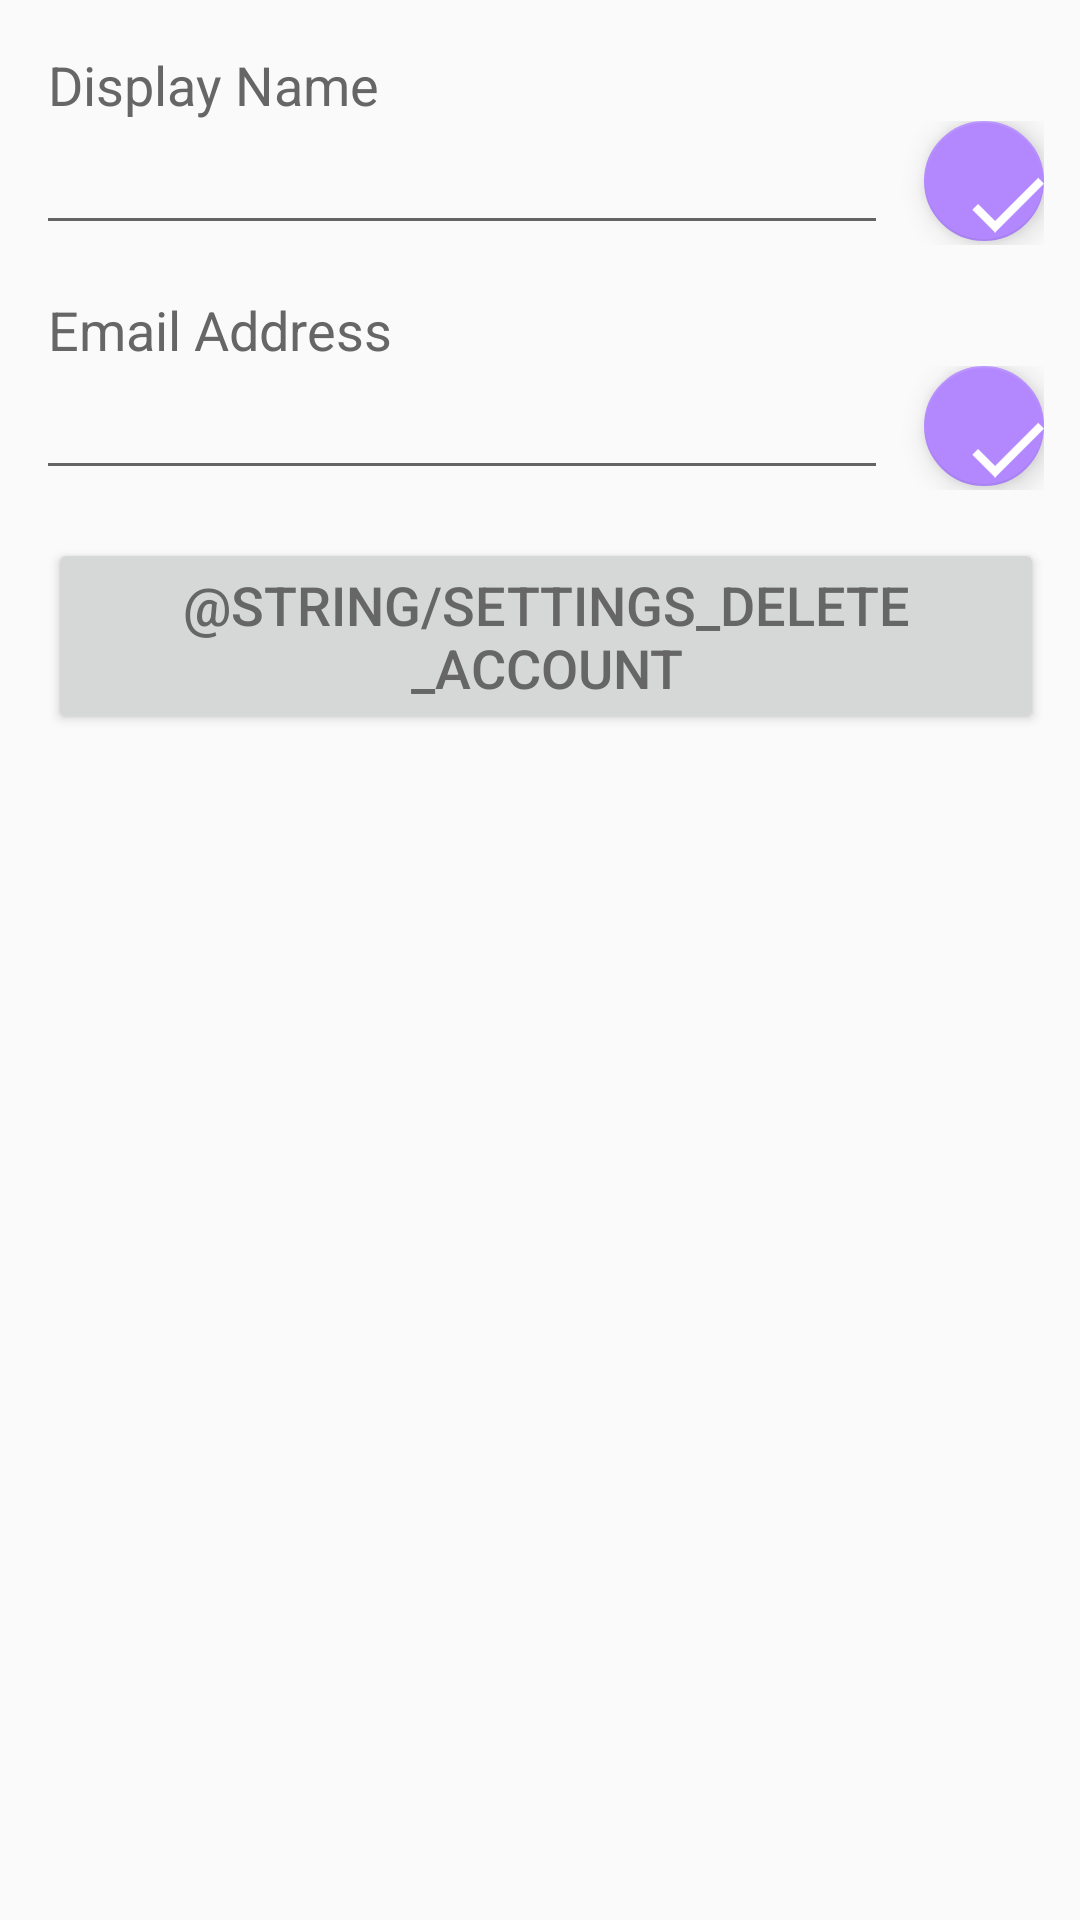

Named icons in this screenshot (1080px x 1920px) and their bounding boxes, (x1, y1, x2, y2):
check: (924, 121, 1044, 241), (924, 366, 1044, 486)
